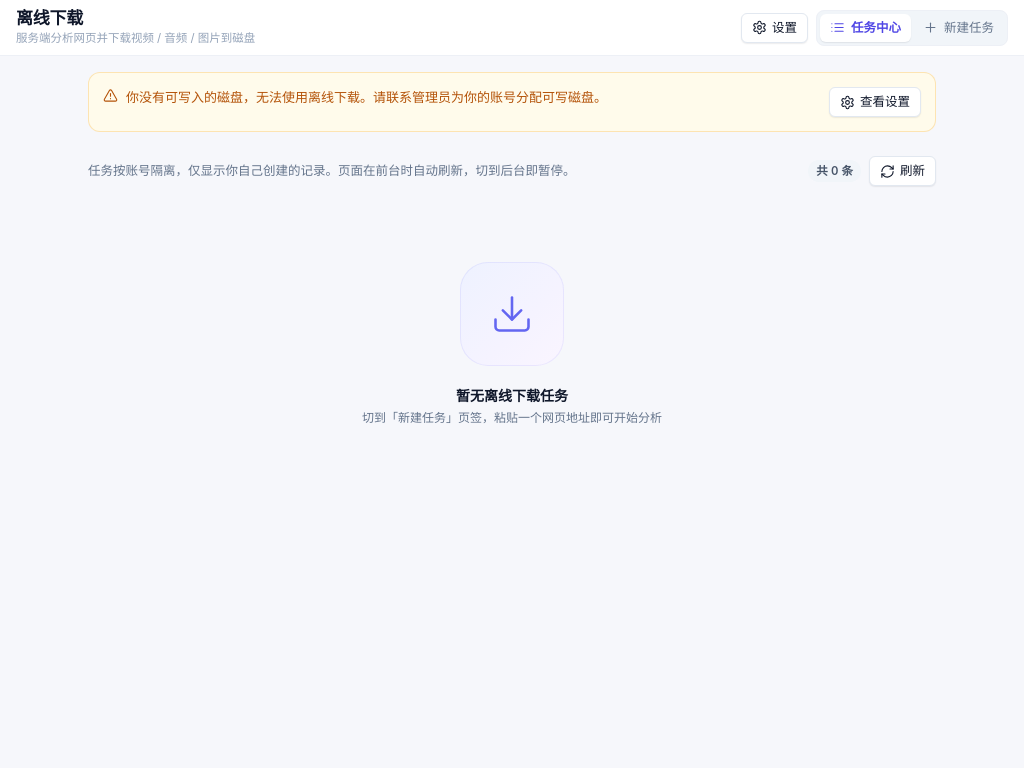
Scenario: 离线下载页：不可用态与页签接线 › 切到「新建任务」⇒ 整块不可用；设置面板打开且只读提示
Expected: the text "暂无离线下载任务" is shown, top-left (456, 386), bottom-right (568, 406)
Step 1. Click the tab "新建任务" → (958, 28), box top-left (913, 14), bottom-right (1004, 42)
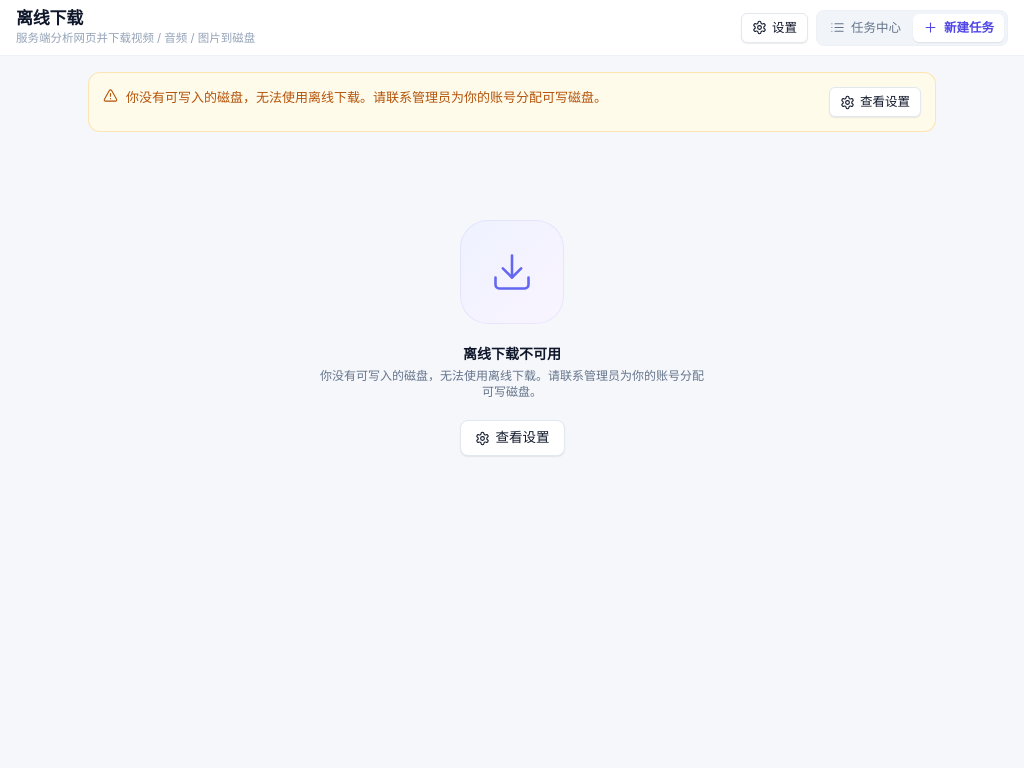
Expected: the text "离线下载不可用" is shown, top-left (463, 344), bottom-right (561, 364)
# 页头横幅与空态里各有一个「查看设置」，点任意一个都能打开同一个面板
Step 2. Click the 1st button "查看设置" → (875, 102), box top-left (829, 87), bottom-right (921, 117)
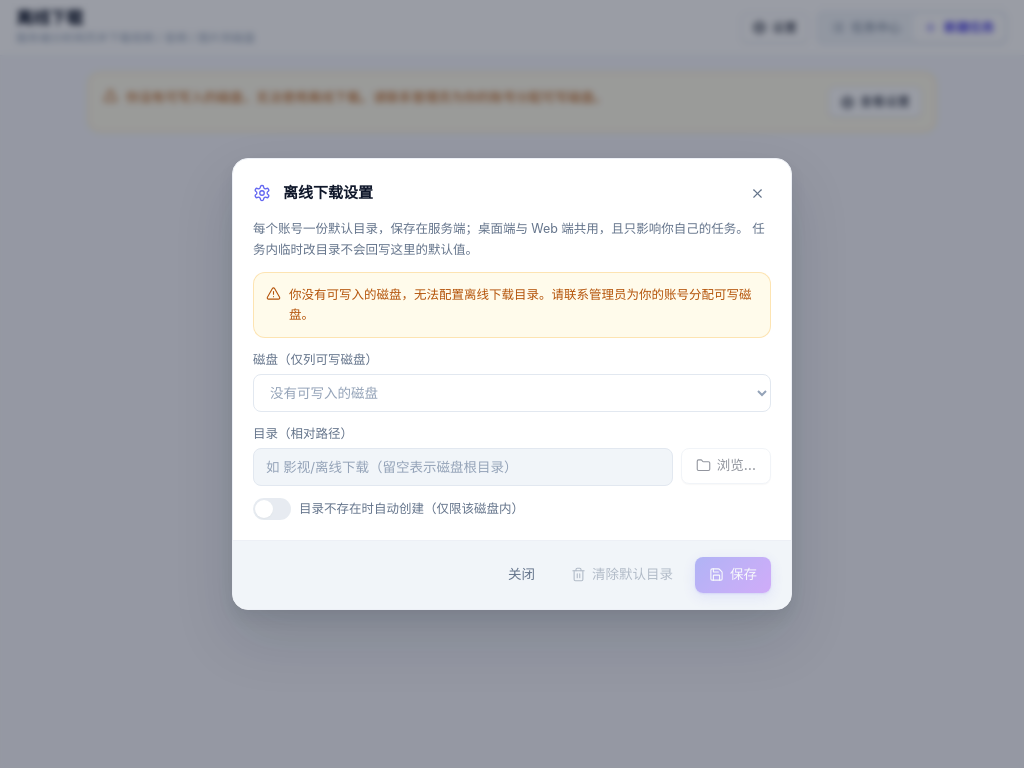
Expected: the dialog "离线下载设置" is shown, top-left (232, 158), bottom-right (792, 610)
Expected: the text "你没有可写入的磁盘，无法配置离线下载目录。请联系管理员为你的账号分配可写磁盘。" is shown, top-left (289, 285), bottom-right (758, 325)
Expected: the button "保存" is disabled, top-left (695, 557), bottom-right (771, 593)
